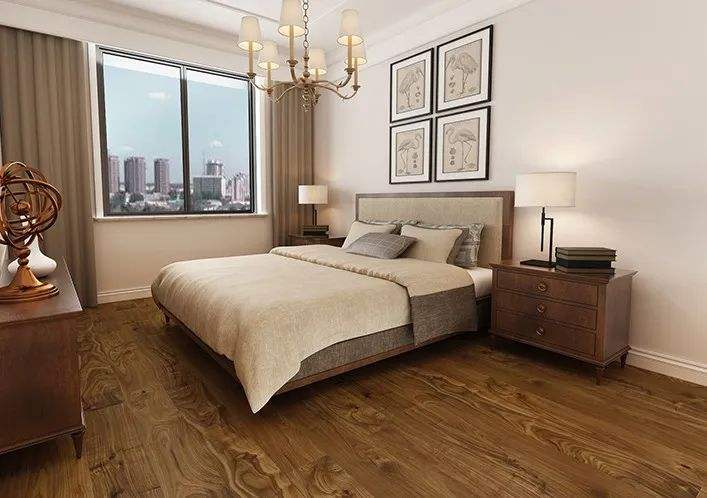床: (147, 244, 480, 402)
枕头: (332, 219, 473, 267)
灯: (219, 4, 373, 115), (512, 170, 575, 266), (290, 181, 326, 233)
